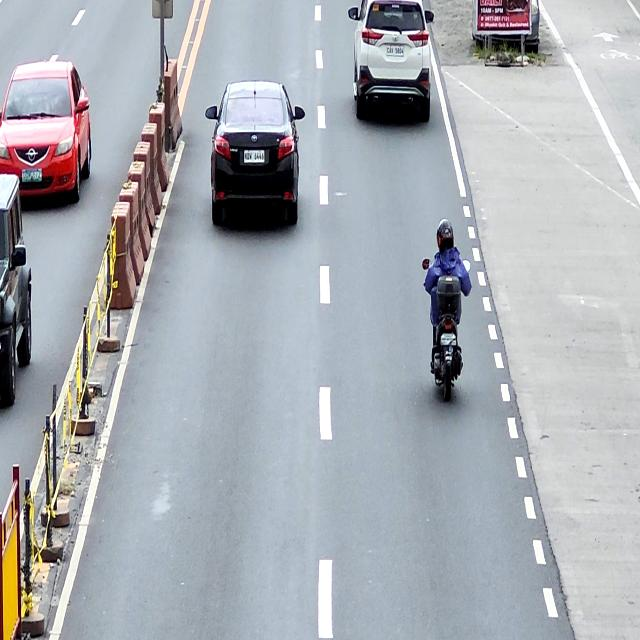Car: (205, 80, 305, 226), (0, 60, 92, 205), (348, 0, 434, 125), (0, 174, 32, 409)
License-Plate: (244, 150, 265, 163), (386, 44, 405, 58), (22, 169, 42, 182), (440, 334, 457, 347)
Motorcycle: (422, 257, 471, 402)
